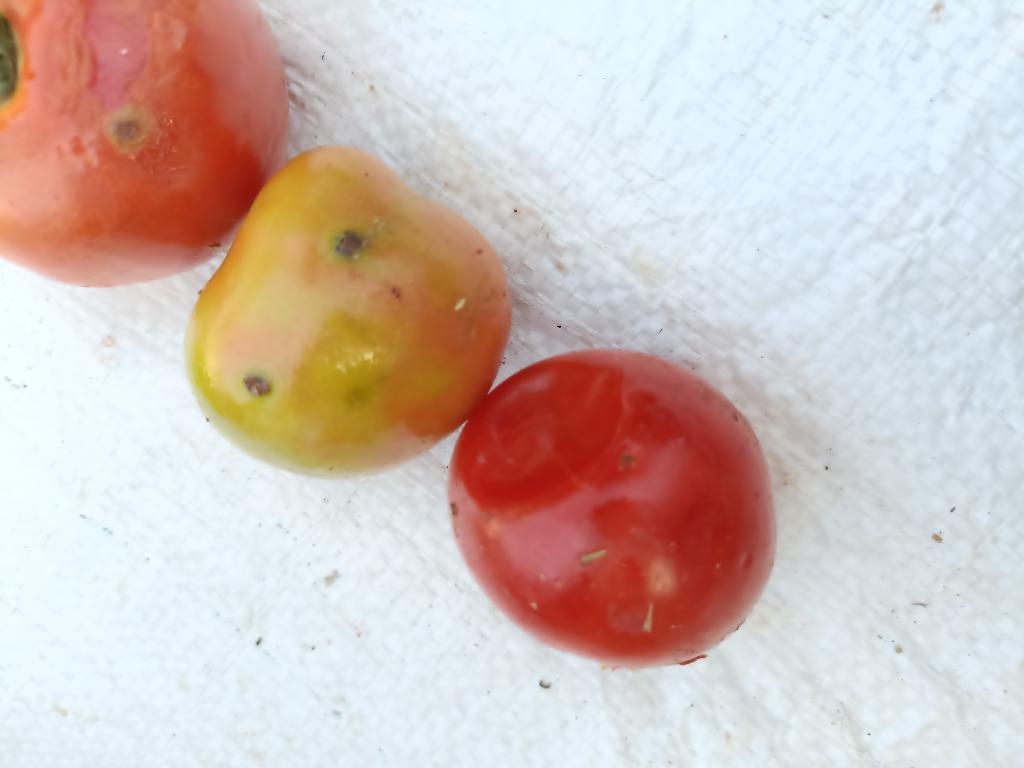bruise_discoloration: (457, 363, 627, 509), (86, 1, 150, 107)
rot_mold_decay: (642, 603, 654, 633)
surface_damage: (108, 110, 145, 147), (334, 231, 365, 259), (244, 374, 271, 397), (581, 550, 607, 563)
tomato: (186, 148, 510, 475), (449, 350, 775, 667), (0, 0, 287, 285)
